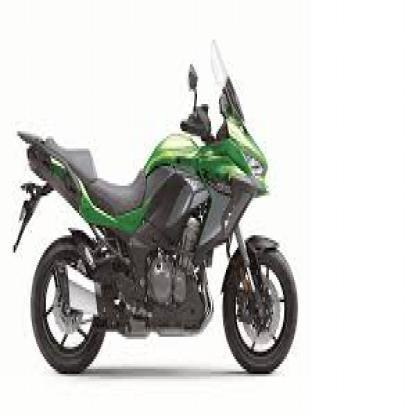Motorcycle: (8, 48, 302, 379)
